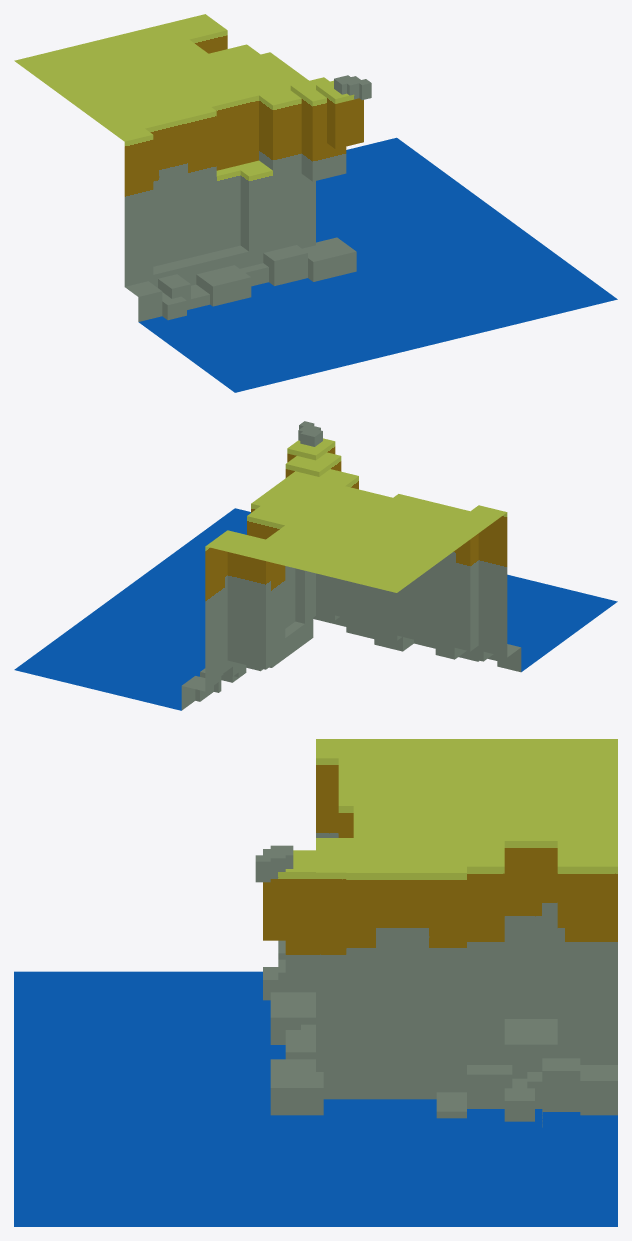
Rendered from MWWW(1).glb.
3 views of the same model, one above another, from view 1: azimuth 30°, elevation 25°; view 2: azimuth 150°, elevation 25°; view 3: azimuth 270°, elevation 25° (orthographic). The views are drawn at different scales.
Parts seen in each view (by area): view 1: model_0.004; view 2: model_0.004; view 3: model_0.004.
Boxes of the visible parts, x1,y1,x2,y2 form: model_0.004: (14,14,617,392); model_0.004: (14,421,617,710); model_0.004: (14,739,617,1226).
Size of the model in its own units: 80 by 38 by 80.
Materials: 1 (1 with a texture image).
